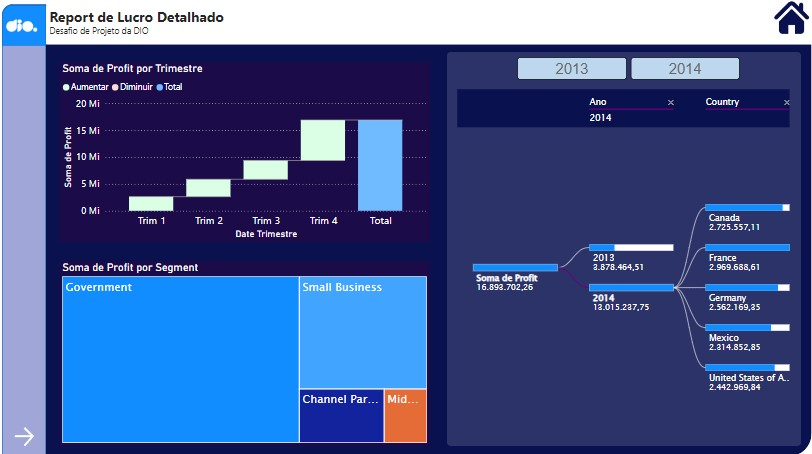

This screenshot's page, from the dashboard's own definition file:
{"tool":"powerbi","page":{"name":"Página 2","canvas":[1280,720],"ordinal":1},"visuals":[{"type":"shape","title":"Fundo","box":[42.6,20.7,1225.3,699.3],"z":0},{"type":"shape","title":"Fundo do Título","box":[80,20,1190,61.7],"z":1000},{"type":"shape","box":[11.7,18.3,68.3,700],"z":2000},{"type":"shape","box":[11.7,20,68.3,63.3],"z":3000},{"type":"image","box":[13.7,33,57.7,39.9],"z":4000},{"type":"textbox","title":"Título do report","box":[80,18.3,523.3,63.3],"z":5000},{"type":"shape","box":[702,93,548.6,610.6],"z":7000},{"type":"waterfallChart","fields":{"Category":["financials.Date.Variation.Hierarquia de datas.Trimestre"],"Y":["Sum(financials.Profit)"]},"box":[100.7,108.5,574.9,278.9],"z":11125},{"type":"treemap","fields":{"Values":["Sum(financials.Profit)"],"Group":["financials.Segment"]},"box":[100.7,416.9,574.9,286.7],"z":11250},{"type":"decompositionTreeVisual","fields":{"Analyze":["Sum(financials.Profit)"],"ExplainBy":["financials.Date.Variation.Hierarquia de datas.Ano","financials.Country"]},"box":[712.8,145.7,525.3,540.8],"z":11500},{"type":"ChicletSlicer1448559807354","fields":{"Category":["financials.Date.Variation.Hierarquia de datas.Ano"]},"box":[802.7,93,361.1,52.7],"z":12000},{"type":"image","box":[1203.5,8.2,64.2,64.2],"z":12001},{"type":"actionButton","title":"Botão - Next","box":[25.9,669,48.8,39.6],"z":12002}]}

Visuals, with their boxes in screenshot pixels (x1, y1, x2, y2), scaled from the page's 1280x720 canvas onto the 812x454 screenshot:
"Fundo" shape: locate(27, 13, 804, 453)
"Fundo do Título" shape: locate(51, 13, 806, 52)
shape: locate(7, 12, 51, 453)
shape: locate(7, 13, 51, 53)
image: locate(9, 21, 45, 46)
"Título do report" textbox: locate(51, 12, 383, 51)
shape: locate(445, 59, 793, 444)
waterfallChart - financials.Date.Variation.Hierarquia de datas.Trimestre x Sum(financials.Profit): locate(64, 68, 429, 244)
treemap - Sum(financials.Profit) x financials.Segment: locate(64, 263, 429, 444)
decompositionTreeVisual - Sum(financials.Profit) x financials.Date.Variation.Hierarquia de datas.Ano: locate(452, 92, 785, 433)
ChicletSlicer1448559807354 - financials.Date.Variation.Hierarquia de datas.Ano: locate(509, 59, 738, 92)
image: locate(763, 5, 804, 46)
"Botão - Next" actionButton: locate(16, 422, 47, 447)
